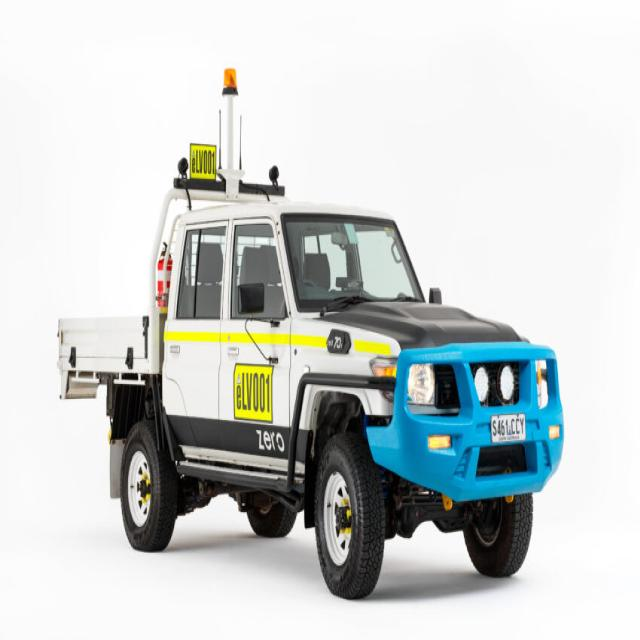light_vehicle: (33, 79, 572, 602)
